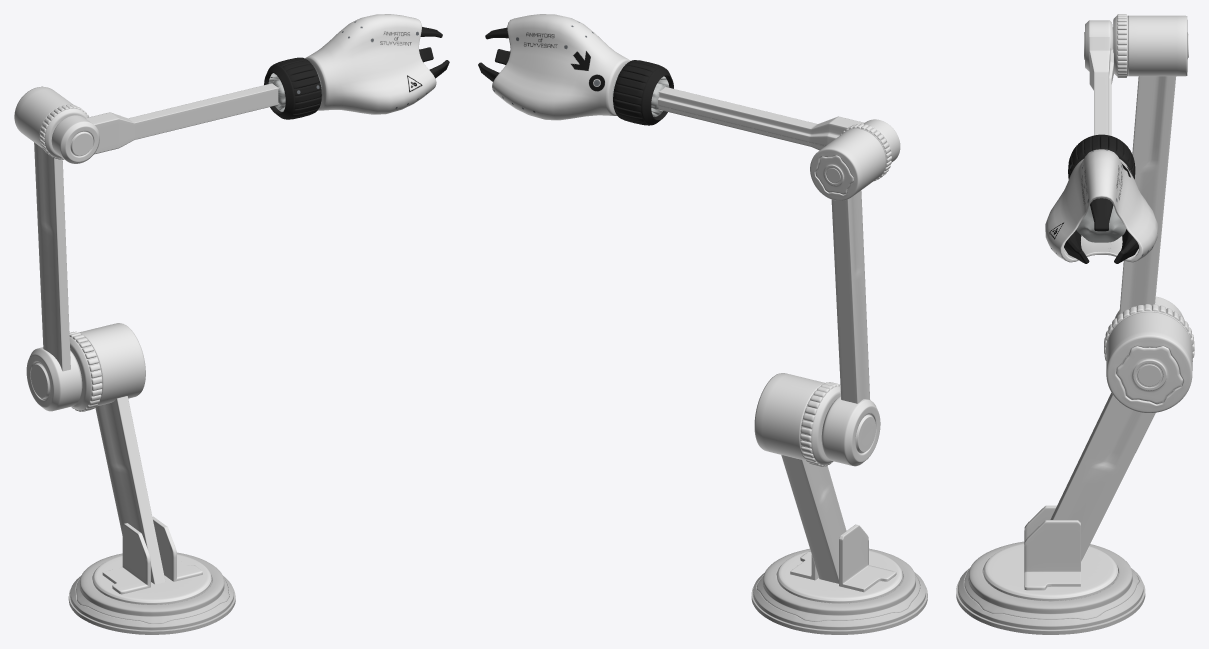
File: arm_1.5.fbx
3 views of the same model, side by side, from view 1: azimuth 30°, elevation 25°; view 2: azimuth 150°, elevation 25°; view 3: azimuth 270°, elevation 25° (orthographic). The views are drawn at different scales.
Visible parts, largest first — view 1: Plane, Plane.002, Plane.001; view 2: Plane, Plane.002, Plane.001; view 3: Plane, Plane.002, Plane.001.
Boxes of the visible parts, box(x1,y1,x2,y2) form: Plane: box(14, 83, 279, 604); Plane.002: box(264, 14, 449, 119); Plane.001: box(68, 552, 235, 634); Plane: box(657, 87, 902, 603); Plane.002: box(478, 14, 673, 125); Plane.001: box(751, 548, 927, 634); Plane: box(983, 14, 1194, 600); Plane.002: box(1045, 134, 1157, 263); Plane.001: box(956, 541, 1145, 634).
Bounding box in the file's own units: 982 × 1220 × 460.
